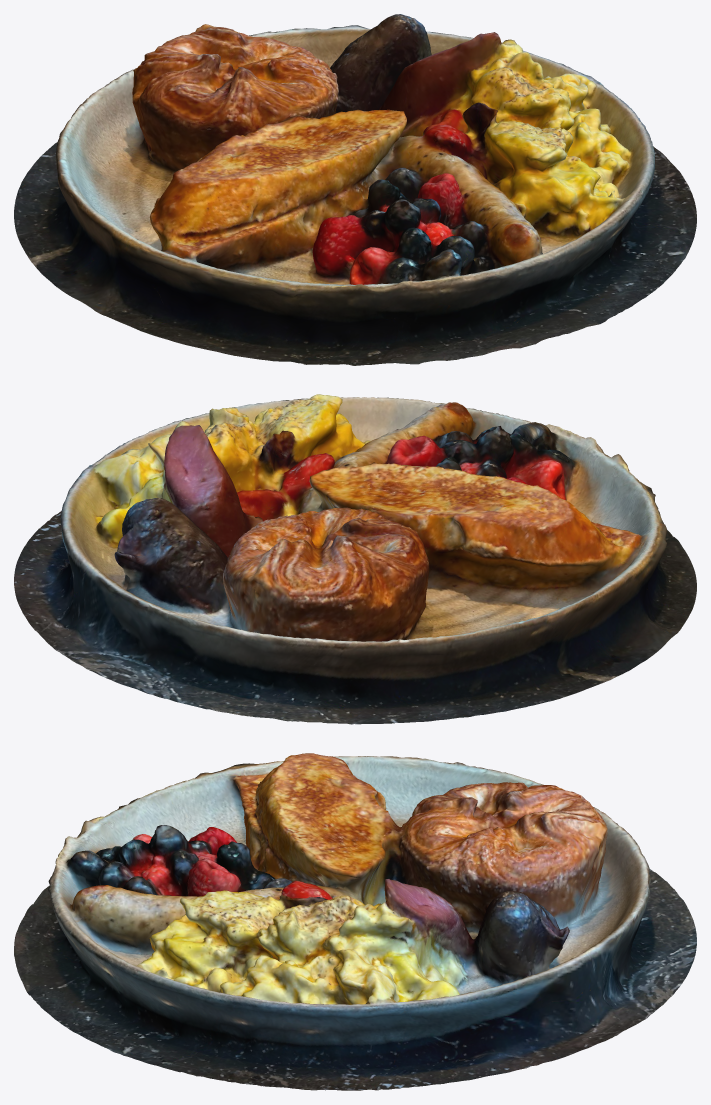
Rendered from dorucak.glb.
3 renders of one model, top to bottom at view 1: azimuth 30°, elevation 25°; view 2: azimuth 150°, elevation 25°; view 3: azimuth 270°, elevation 25°, orthographic.
Bounding box in the file's own units: 0.279 × 0.0646 × 0.279.
Materials: 1 (1 with a texture image).
